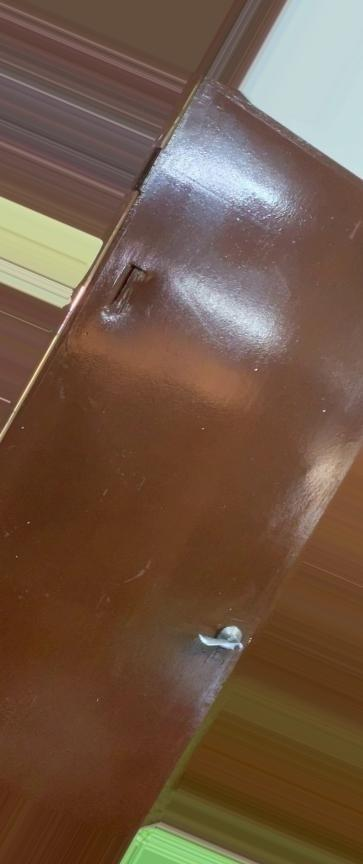door: (0, 72, 363, 864)
